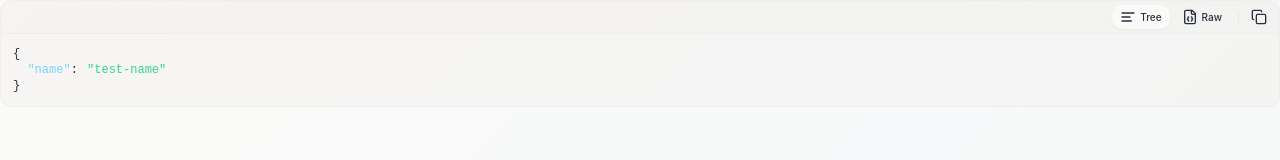
JsonResponseExporter › triggers setActiveField when clicking on a string value
The image size is (1280, 160).
Click the text "\"test-name\"": click(127, 70) [85, 63, 168, 77]
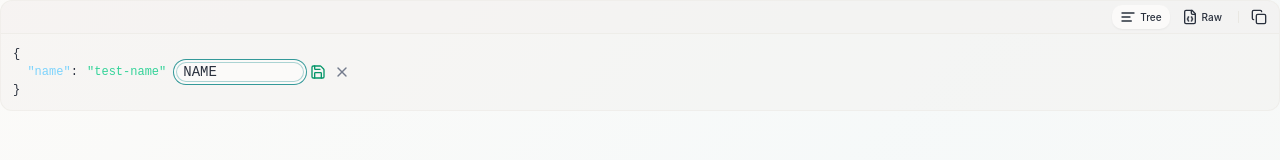
Check: the field showing "NAME" is shown, box [176, 62, 304, 82]
